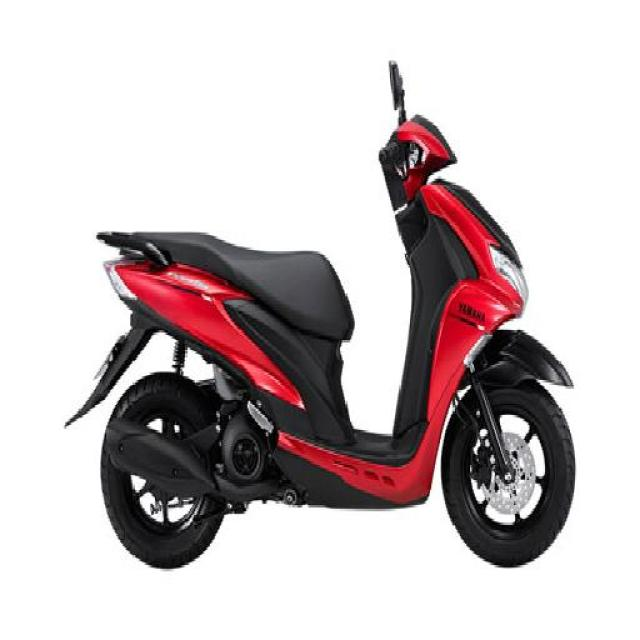All: (62, 54, 580, 570)
Head: (368, 102, 469, 183)
Tail: (83, 210, 177, 311)
